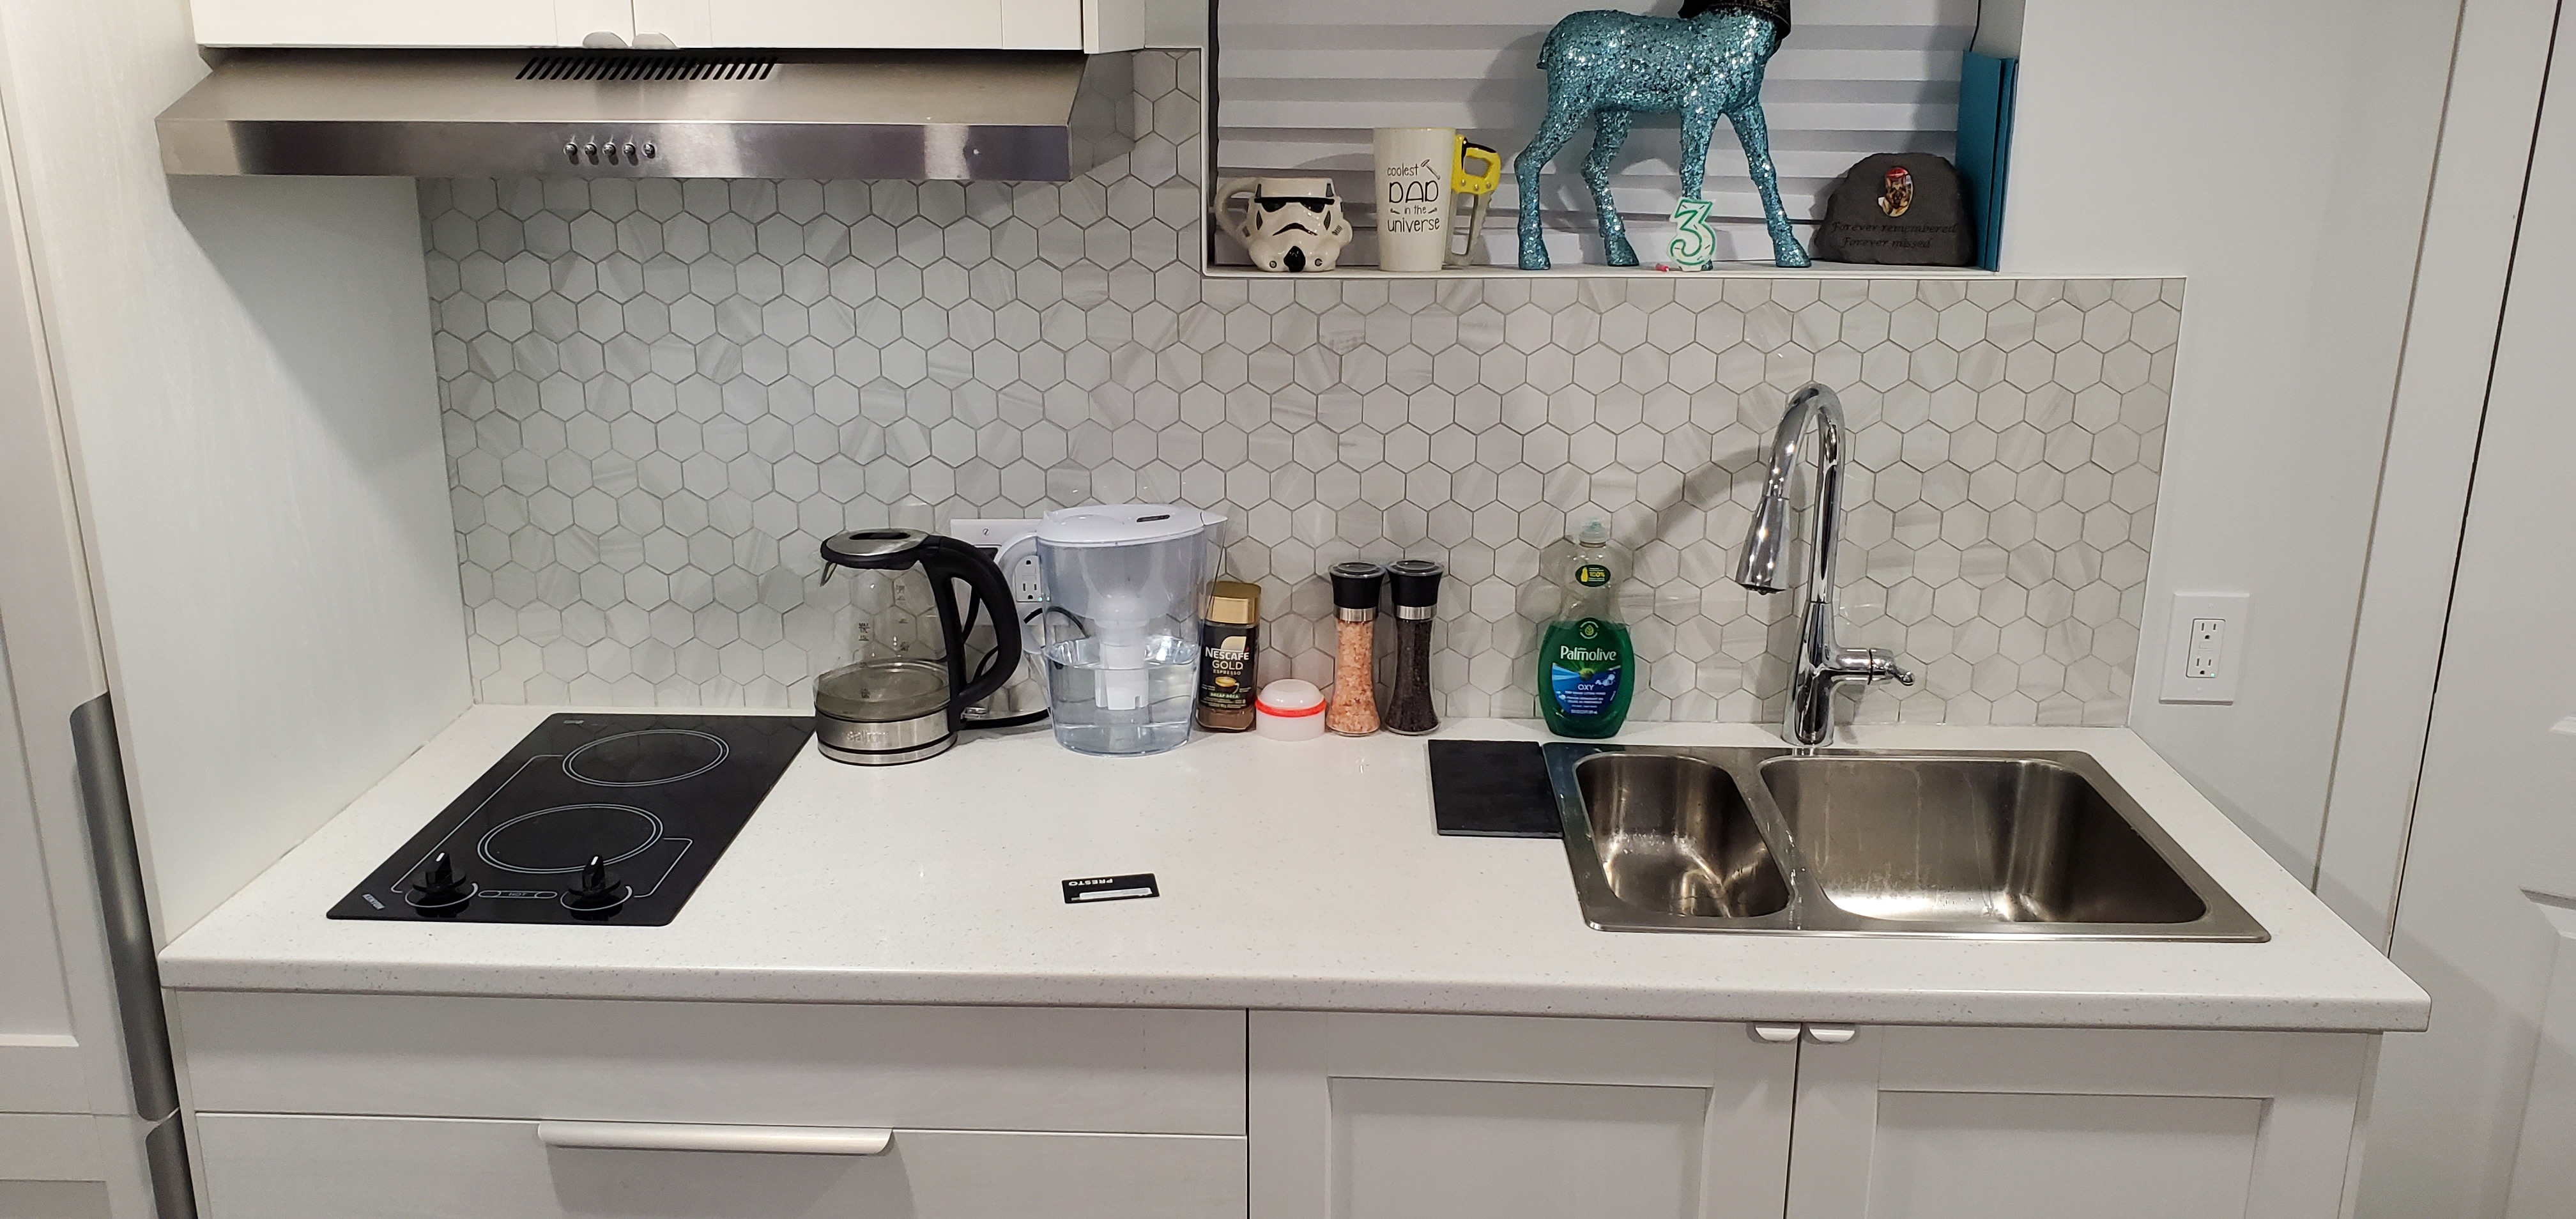cooktop: (306, 710, 838, 928)
giftcard: (1058, 871, 1161, 908)
sink: (1528, 729, 2288, 953)
